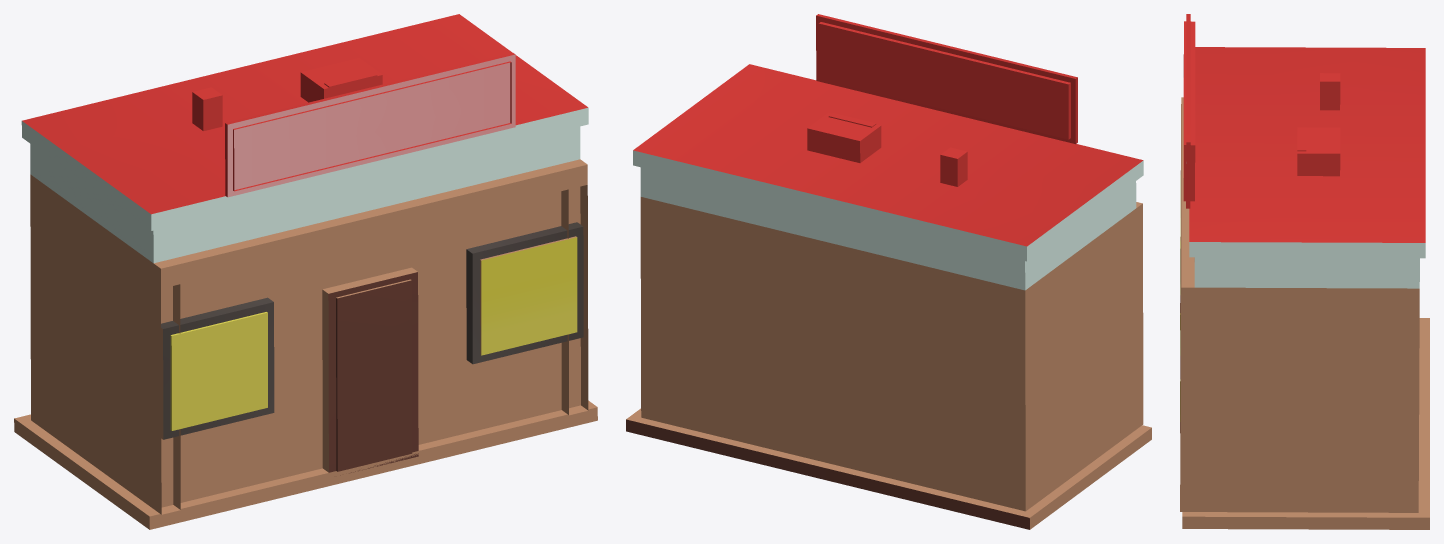
Rendered from Comercio.fbx.
3 views of the same model, side by side, from view 1: azimuth 30°, elevation 25°; view 2: azimuth 150°, elevation 25°; view 3: azimuth 270°, elevation 25° (orthographic). The views are drawn at different scales.
Visible parts, largest first — view 1: comercio_comida; view 2: comercio_comida; view 3: comercio_comida.
Part boxes in pixels (left/top/right/bottom): comercio_comida: left=14, top=14, right=597, bottom=529; comercio_comida: left=626, top=14, right=1151, bottom=529; comercio_comida: left=1180, top=14, right=1429, bottom=529.
Size of the model in its own units: 420 by 345 by 222.
Materials: 1 (1 with a texture image).
